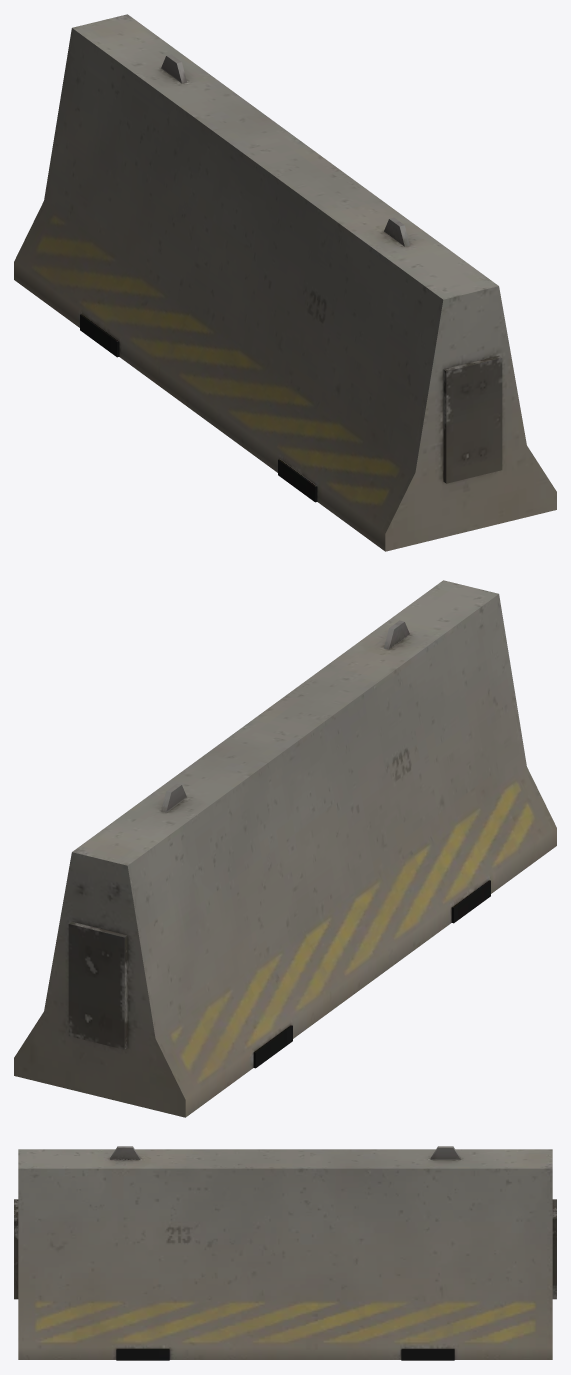
The model's file is hs_concrete_barrier_lod1.glb.
3 renders of one model, top to bottom at view 1: azimuth 30°, elevation 25°; view 2: azimuth 150°, elevation 25°; view 3: azimuth 270°, elevation 25°, orthographic. The views are drawn at different scales.
Size of the model in its own units: 0.82 by 1.13 by 3.05.
Materials: 1 (1 with a texture image).
